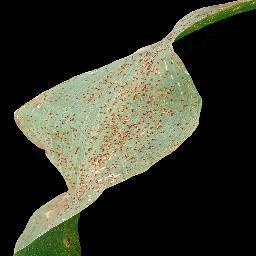Corn_Common_Rust: (9, 69, 206, 148), (39, 148, 177, 193), (12, 194, 106, 256), (99, 30, 187, 69), (167, 0, 255, 30)
